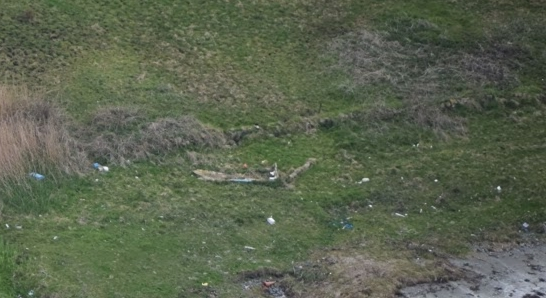scattered_barrel: (21, 152, 116, 194)
white_in_green: (249, 198, 291, 237), (249, 263, 289, 298)
